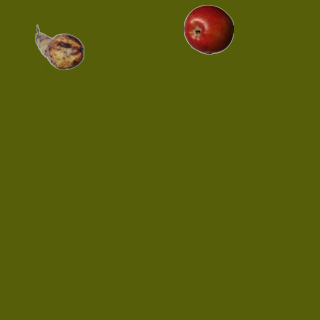Apple Braeburn: (183, 4, 233, 54)
Pear Abate: (34, 22, 84, 72)
